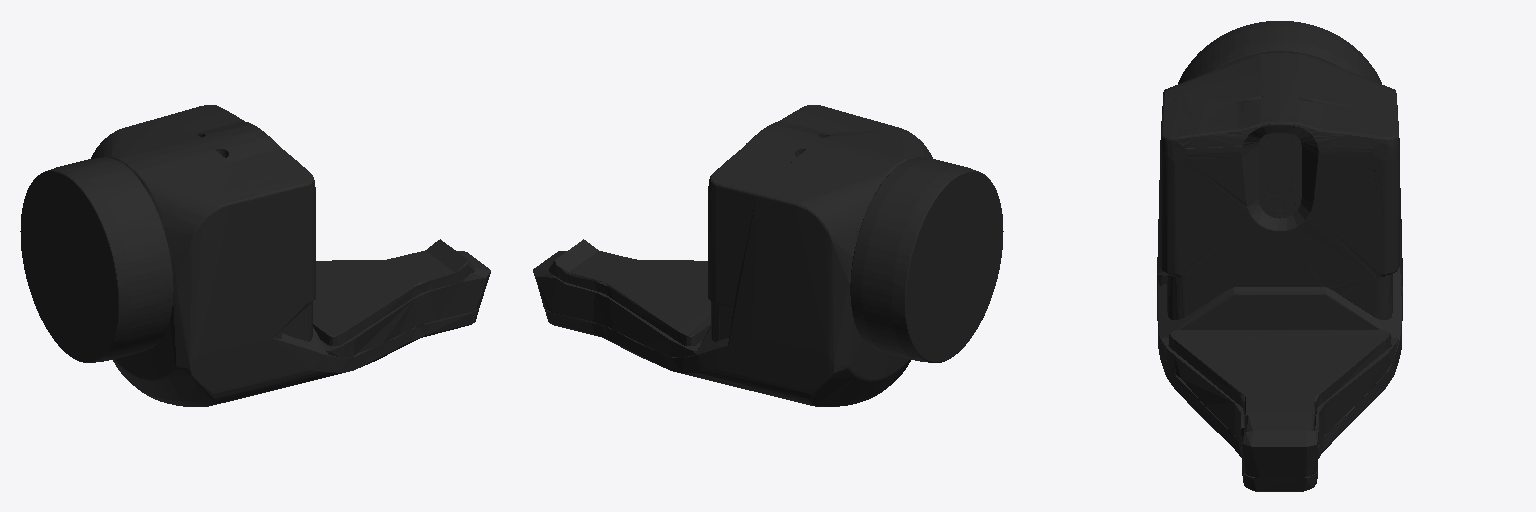
The robot description file, URDF, robot "spot":
<?xml version="1.0"?>

<robot name="spot">
  <link name="base_link">
  </link>

  <joint name="joint1" type="revolute">
    <origin xyz="0.292 0.0 0.188" rpy="0 0 0"/>
    <axis xyz="0 0 1"/>
    <parent link="base_link"/>
    <child link="link1"/>
    <limit effort="1000" velocity="1000.00" lower="-2.61799387799149441136" upper="3.14159265358979311599"/>
  </joint>

  <link name="link1">
  </link>
  
  <joint name="joint2" type="revolute">
    <origin xyz="0.0 0.0 0.0" rpy="0 0 0"/>
    <axis xyz="0 1 0"/>
    <parent link="link1"/>
    <child link="link2"/>
    <limit effort="1000" velocity="1000.00" lower="-3.14159265358979311599" upper="0.52359877559829881565"/>
  </joint>

  <link name="link2">
  </link>

  <joint name="joint2a" type="fixed">
    <origin xyz="0.0 0.0 0.0" rpy="0 0 0"/>
    <axis xyz="1 0 0"/>
    <parent link="link2"/>
    <child link="link3"/>
    <!--limit effort="1000" velocity="1000.00" lower="-1e6" upper="1e6"/-->
  </joint>
  
  <link name="link3">
  </link>

  <joint name="joint3" type="revolute">
    <origin xyz="0.3385 0 0" rpy="0 0 0"/>
    <axis xyz="0 1 0"/>
    <parent link="link3"/>
    <child link="link4"/>
     <limit effort="1000" velocity="1000.00" lower="0" upper="3.14159265358979311599"/>
  </joint>
  
  <link name="link4">
  </link>
  
  <joint name="joint4" type="revolute">
    <origin xyz="0.40330 0.0 0.0750" rpy="0 0 0"/>
    <axis xyz="1 0 0"/>
    <parent link="link4"/>
    <child link="link5"/>
     <limit effort="1000" velocity="1000.00" lower="-2.79252680319092716487" upper="2.79252680319092716487"/>
  </joint>
  
  <link name="link5">
  </link>
  
  <joint name="joint5" type="revolute">
    <origin xyz="0.0 0.0 0.0" rpy="0 0 0"/>
    <axis xyz="0 1 0"/>
    <parent link="link5"/>
    <child link="link6"/>
    <limit effort="1000" velocity="1000.00" lower="-1.83259571459404613236" upper="1.83259571459404613236"/>
  </joint>
  
  <link name="link6">
  </link>
  
  <joint name="joint6" type="revolute">
    <origin xyz="0.0 0.0 0.0" rpy="0 0 0"/>
    <axis xyz="1 0 0"/>
    <parent link="link6"/>
    <child link="gripper"/>
     <limit effort="1000" velocity="1000.00" lower="-2.87979326579064354163" upper="2.87979326579064354163"/>
  </joint>
  
  <link name="gripper">
    <visual>
      <origin xyz="0 0 0" rpy="0 0 0"/>
      <geometry>
        <mesh filename="link_models/arm0.link_wr1.obj.dae"/>
      </geometry>
      <material name="arm0.link_wr1"> <color rgba="0.2 0.2 0.2 1"/></material>    
    </visual>
  </link>
  
  <joint name="arm0.f1x" type="revolute">
    <origin xyz="0.11745 0 0.014820" rpy="0 0 0"/>
    <axis xyz="0.0 1.0 0.0"/>
    <parent link="gripper"/>
    <child link="finger"/>
     <limit effort="1000" velocity="1000.00" lower="-1.57" upper="0.0"/>
  </joint>

  <link name="finger">
  </link>

</robot>

--- Render facts (derived) ---
3 views of the same robot in one strip: view 1: azimuth 30°, elevation 25°; view 2: azimuth 150°, elevation 25°; view 3: azimuth 270°, elevation 25° (orthographic).
Model spot with 9 links and 8 joints (7 revolute, 1 fixed), rooted at base_link, posed every joint at zero.
Visible links, largest first — view 1: gripper; view 2: gripper; view 3: gripper.
Boxes of the visible links, x1,y1,x2,y2 form: gripper: (20, 105, 490, 406); gripper: (533, 105, 1003, 406); gripper: (1157, 21, 1402, 491).
Bounding box of the posed robot: 0.1802 × 0.0839 × 0.099 m (x, y, z).
Meshes: 1 distinct files referenced, 1 mesh visuals loaded (1 Collada DAE).